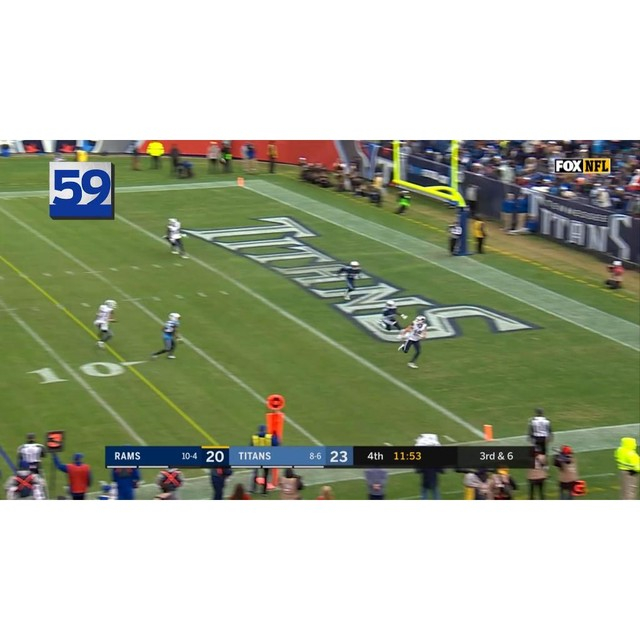american-football-player: (398, 315, 428, 369), (151, 311, 182, 361), (92, 299, 118, 348), (163, 217, 189, 258), (337, 260, 362, 301), (380, 300, 407, 334)
referee: (526, 406, 553, 455)
